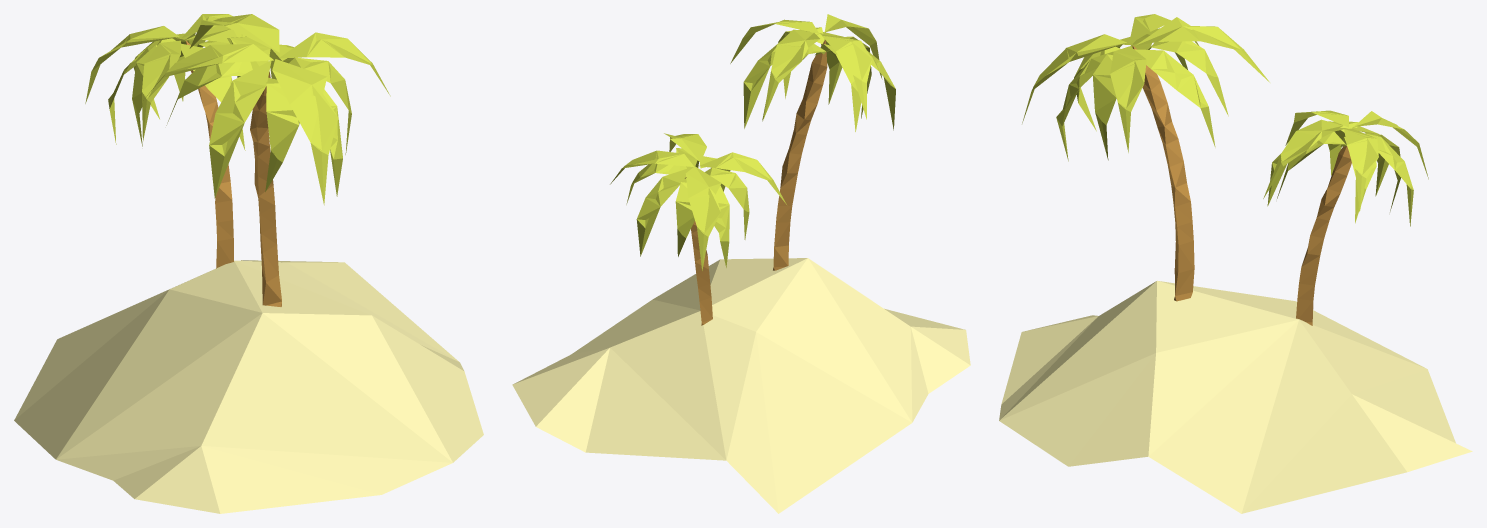
The model's file is island.fbx.
The picture shows the model from 3 angles, left to right: view 1: azimuth 30°, elevation 25°; view 2: azimuth 150°, elevation 25°; view 3: azimuth 270°, elevation 25°; orthographic projection. The views are drawn at different scales.
Parts seen in each view (by area): view 1: Cube_001.001, Cylinder_000, Cylinder_000.001; view 2: Cube_001.001, Cylinder_000, Cylinder_000.001; view 3: Cube_001.001, Cylinder_000, Cylinder_000.001.
Part boxes in pixels (x1,y1,x2,y2): Cube_001.001: (14,260,483,513); Cylinder_000: (143,14,390,306); Cylinder_000.001: (85,14,245,268); Cube_001.001: (512,258,970,513); Cylinder_000: (730,14,895,270); Cylinder_000.001: (610,133,786,325); Cube_001.001: (999,280,1472,513); Cylinder_000: (1022,14,1269,301); Cylinder_000.001: (1263,110,1428,325).
Size of the model in its own units: 5076 by 5536 by 5706.
